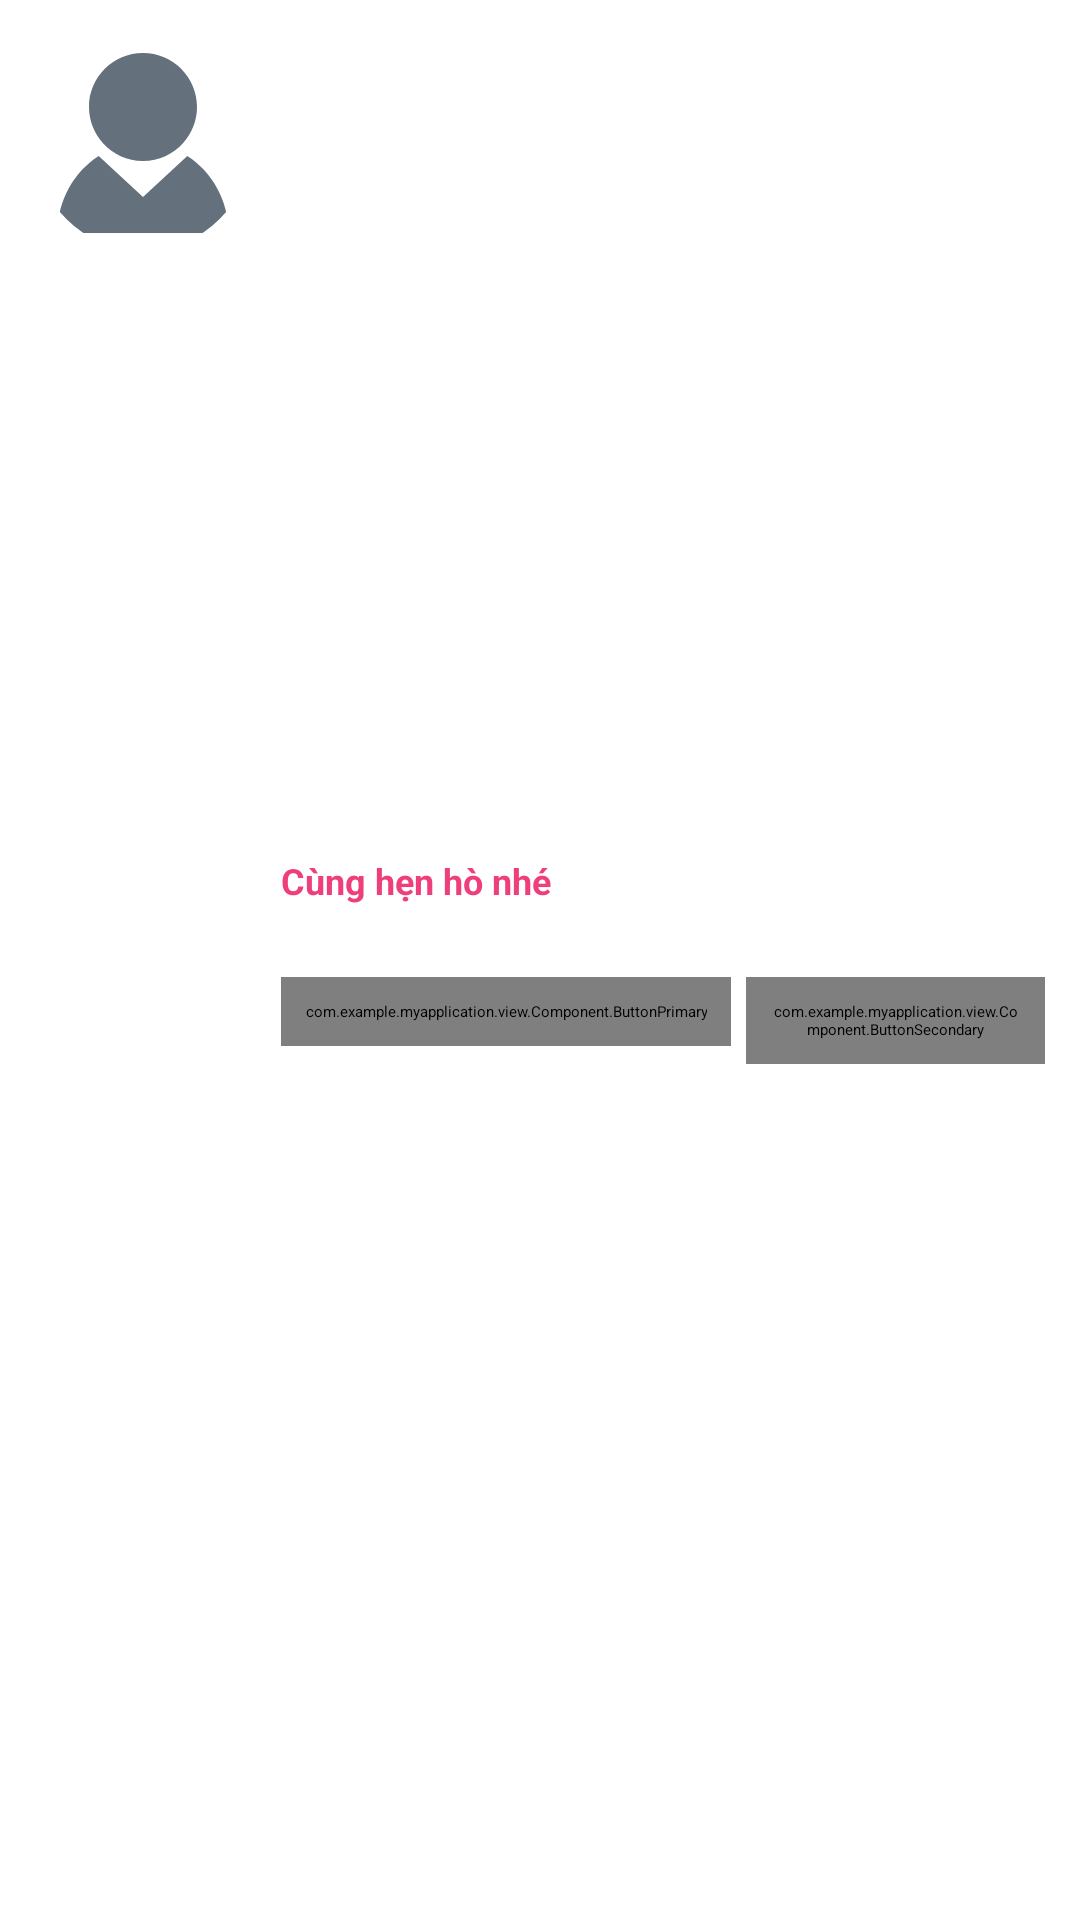

Locate icon controls on the screen. Image size 1080w x 1920h, boxes as box(x1, y1, x2, y2).
account: box(60, 53, 226, 233)
